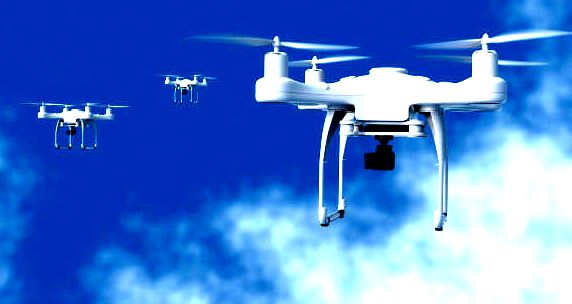Drone: (196, 24, 568, 235), (22, 96, 132, 153), (154, 69, 216, 108)
